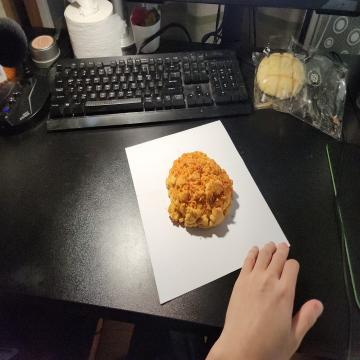soboru_bread: (165, 149, 234, 231)
